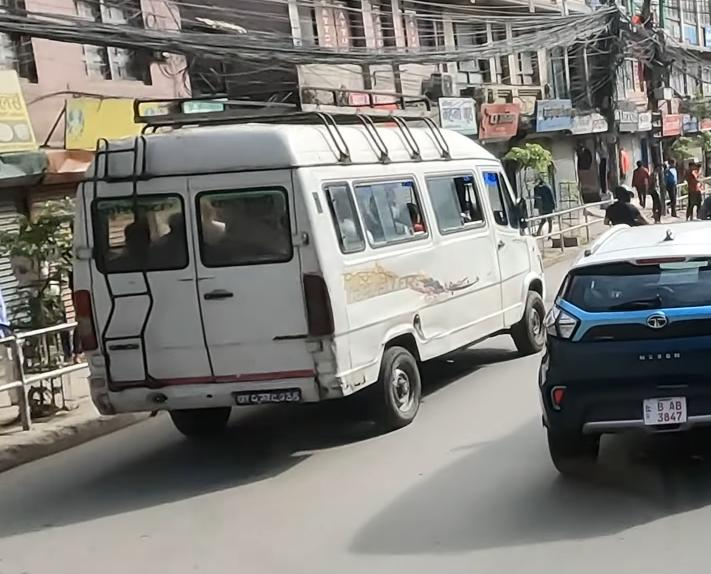car: (533, 219, 711, 489)
micro_bus: (55, 102, 548, 439)
